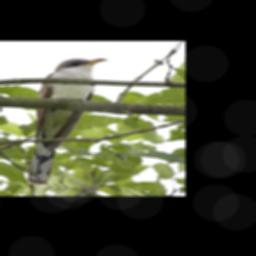Cuckoo: (28, 58, 109, 185)
